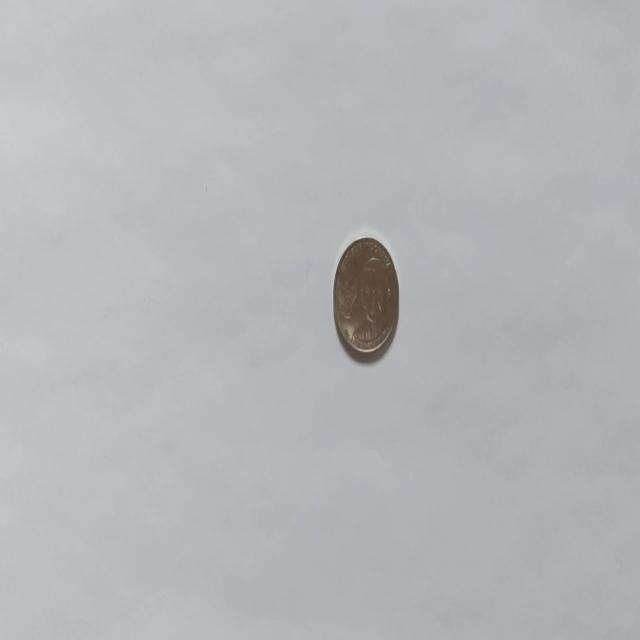seribu rupiah koin: (332, 232, 399, 358)
